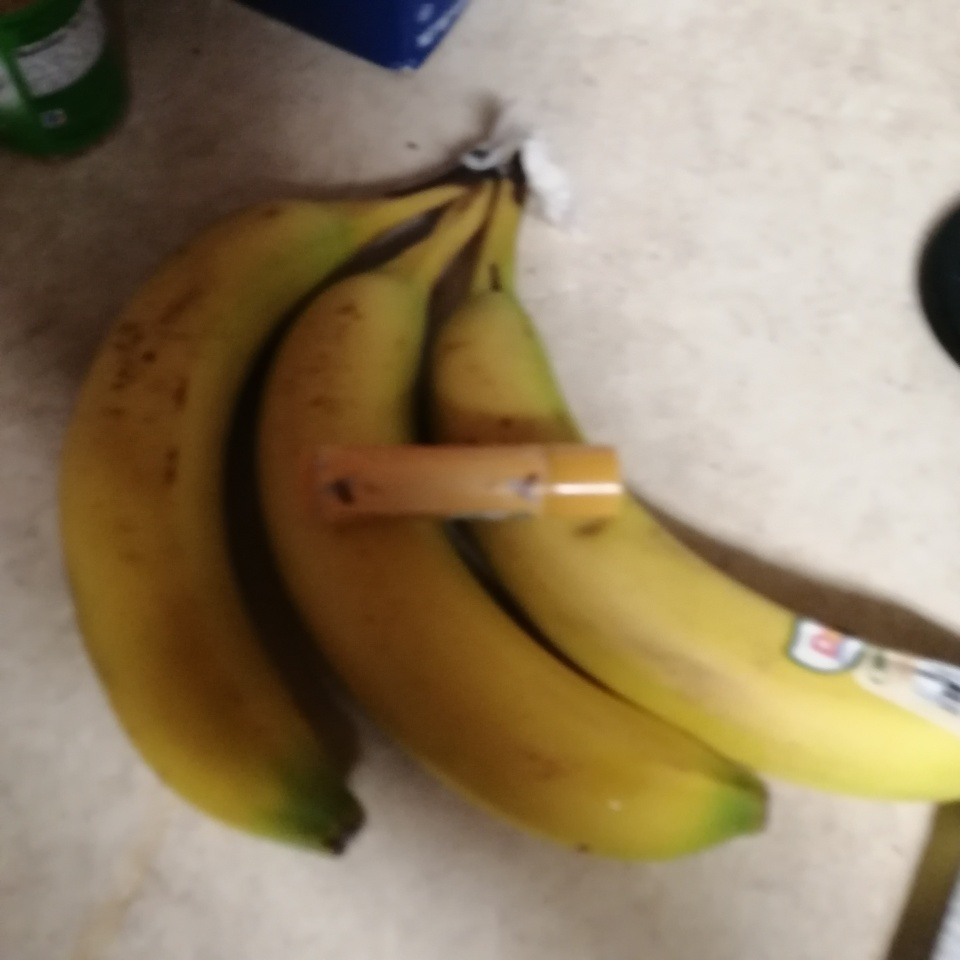chapstick: (299, 440, 624, 524)
